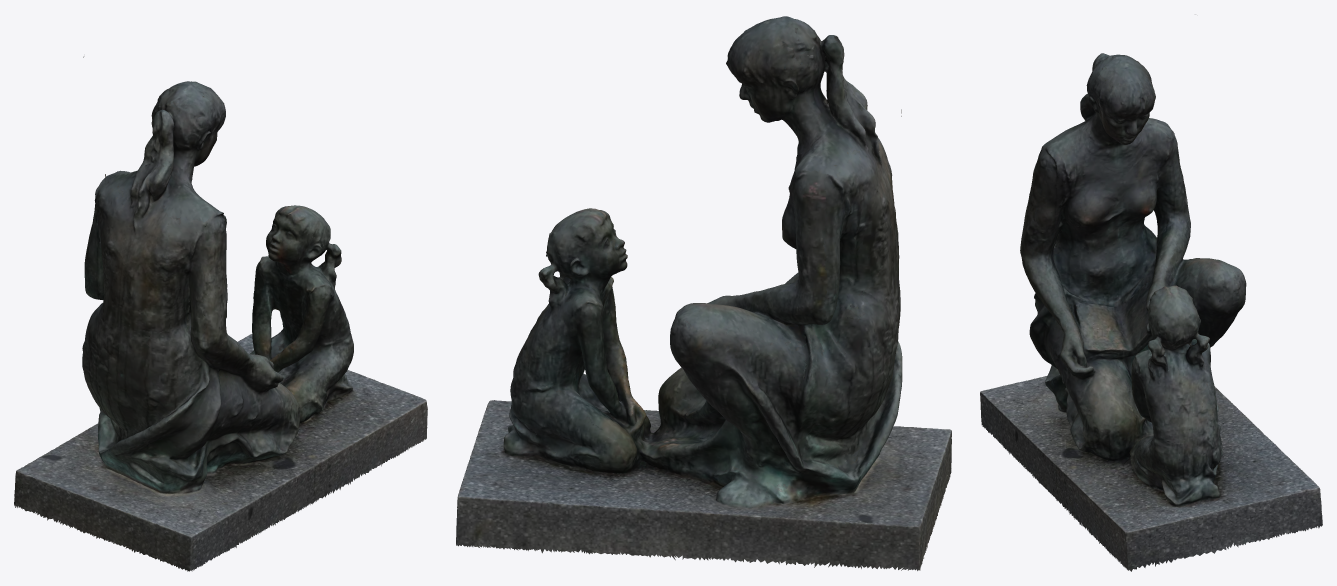
The model's file is sf-woman-and-pupil-sculpture-89c1f1.glb.
3 views of the same model, side by side, from view 1: azimuth 30°, elevation 25°; view 2: azimuth 150°, elevation 25°; view 3: azimuth 270°, elevation 25° (orthographic). The views are drawn at different scales.
Parts seen in each view (by area): view 1: meshNode_Material_u1_v1_0; view 2: meshNode_Material_u1_v1_0; view 3: meshNode_Material_u1_v1_0.
Part boxes in pixels (x1,y1,x2,y2): meshNode_Material_u1_v1_0: [14, 56, 427, 571]; meshNode_Material_u1_v1_0: [456, 16, 951, 570]; meshNode_Material_u1_v1_0: [980, 14, 1322, 571].
Size of the model in its own units: 40.99 by 43.81 by 32.77.
Materials: 1 (1 with a texture image).
